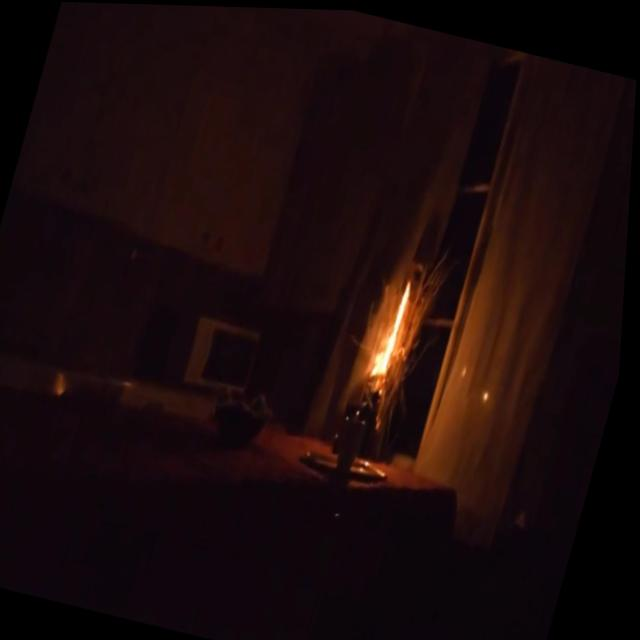fire: (361, 262, 428, 390)
